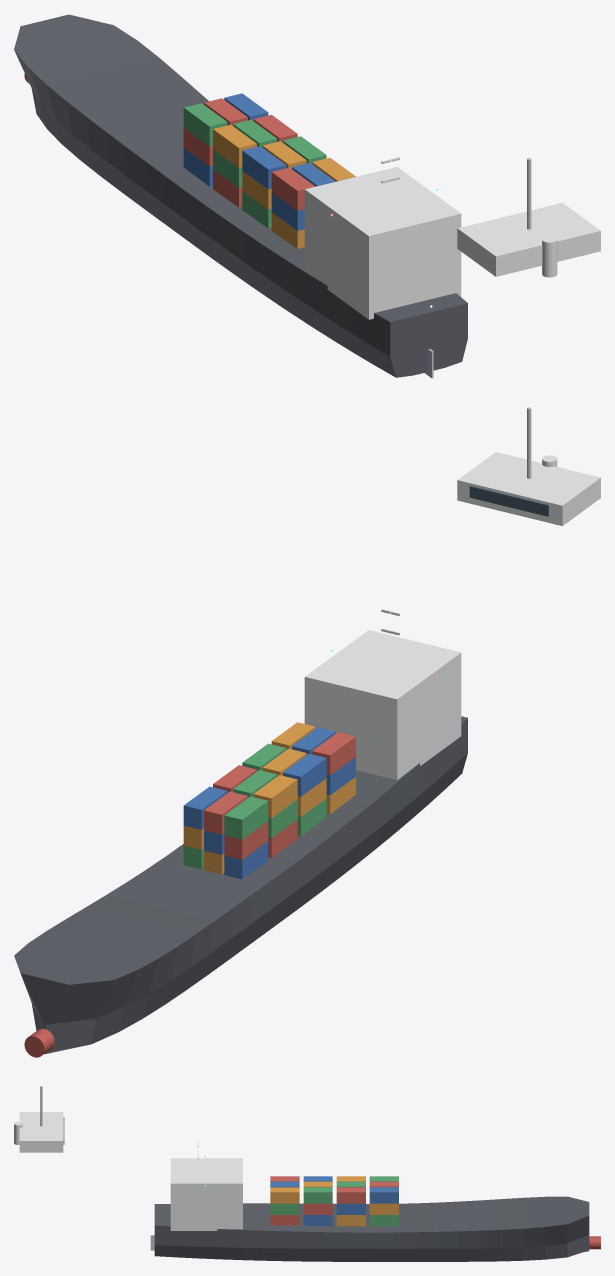
The model's file is container_749gt.glb.
3 renders of one model, top to bottom at view 1: azimuth 30°, elevation 25°; view 2: azimuth 150°, elevation 25°; view 3: azimuth 270°, elevation 25°, orthographic. The views are drawn at different scales.
Visible parts, largest first — view 1: ship_hull, superstructure_base, bridge_wing, container_b0_s1_t2, container_b1_s1_t2, container_b3_s1_t2, container_b2_s1_t2, container_b0_s1_t1, funnel, container_b0_s1_t0, container_b2_s1_t1, container_b3_s1_t1 (+12 smaller); view 2: ship_hull, superstructure_base, bridge_wing, container_b3_s1_t2, container_b2_s1_t2, container_b1_s1_t2, container_b0_s1_t2, bridge_windows, container_b3_s3_t2, container_b3_s2_t2, container_b3_s1_t1, container_b3_s1_t0; view 3: ship_hull, superstructure_base, bridge_wing, container_b0_s3_t2, container_b1_s3_t2, container_b2_s3_t2, container_b3_s3_t2, container_b0_s3_t1, container_b1_s3_t1, container_b2_s3_t0, container_b2_s3_t1, container_b3_s3_t0 (+3 smaller).
Part boxes in pixels (x1,y1,x2,y2): ship_hull: [14, 14, 467, 377]; superstructure_base: [304, 167, 461, 319]; bridge_wing: [457, 202, 600, 276]; container_b0_s1_t2: [271, 167, 315, 210]; container_b1_s1_t2: [242, 146, 286, 189]; container_b3_s1_t2: [183, 103, 227, 146]; container_b2_s1_t2: [213, 124, 256, 167]; container_b0_s1_t1: [271, 192, 304, 230]; funnel: [542, 236, 557, 277]; container_b0_s1_t0: [271, 212, 304, 248]; container_b2_s1_t1: [213, 149, 242, 187]; container_b3_s1_t1: [183, 128, 212, 166]; ship_hull: [14, 716, 467, 1053]; superstructure_base: [304, 630, 461, 779]; bridge_wing: [457, 452, 600, 525]; container_b3_s1_t2: [224, 796, 268, 839]; container_b2_s1_t2: [253, 775, 297, 818]; container_b1_s1_t2: [283, 753, 326, 796]; container_b0_s1_t2: [312, 732, 355, 775]; bridge_windows: [469, 486, 548, 516]; container_b3_s3_t2: [183, 786, 227, 829]; container_b3_s2_t2: [204, 791, 247, 834]; container_b3_s1_t1: [224, 821, 268, 859]; container_b3_s1_t0: [224, 841, 268, 879]; ship_hull: [154, 1196, 589, 1261]; superstructure_base: [170, 1158, 242, 1230]; bridge_wing: [19, 1112, 63, 1152]; container_b0_s3_t2: [270, 1187, 299, 1203]; container_b1_s3_t2: [303, 1187, 332, 1203]; container_b2_s3_t2: [336, 1187, 365, 1203]; container_b3_s3_t2: [369, 1187, 398, 1203]; container_b0_s3_t1: [270, 1203, 299, 1214]; container_b1_s3_t1: [303, 1203, 332, 1214]; container_b2_s3_t0: [336, 1215, 365, 1226]; container_b2_s3_t1: [336, 1203, 365, 1214]; container_b3_s3_t0: [369, 1215, 398, 1226].
Size of what is drawn, in the model's own units: 15.15 by 37.87 by 121.
